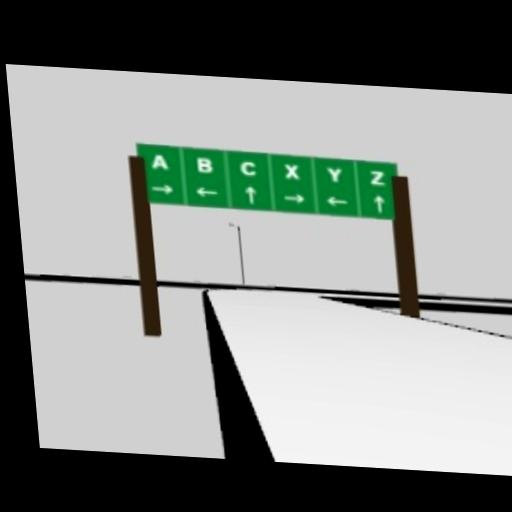A: (149, 153, 168, 170)
B: (195, 156, 212, 173)
C: (237, 160, 256, 175)
Left: (194, 186, 218, 198), (324, 195, 348, 207)
Right: (150, 183, 174, 196), (282, 192, 304, 203)
Straight: (243, 186, 257, 204), (372, 194, 384, 213)
X: (283, 163, 298, 180)
Y: (325, 165, 342, 182)
Z: (368, 170, 385, 185)
